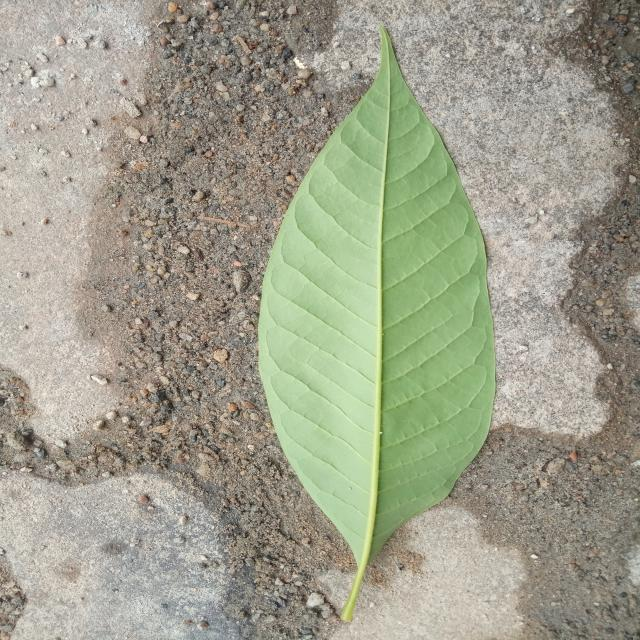coffee: (258, 26, 495, 621)
